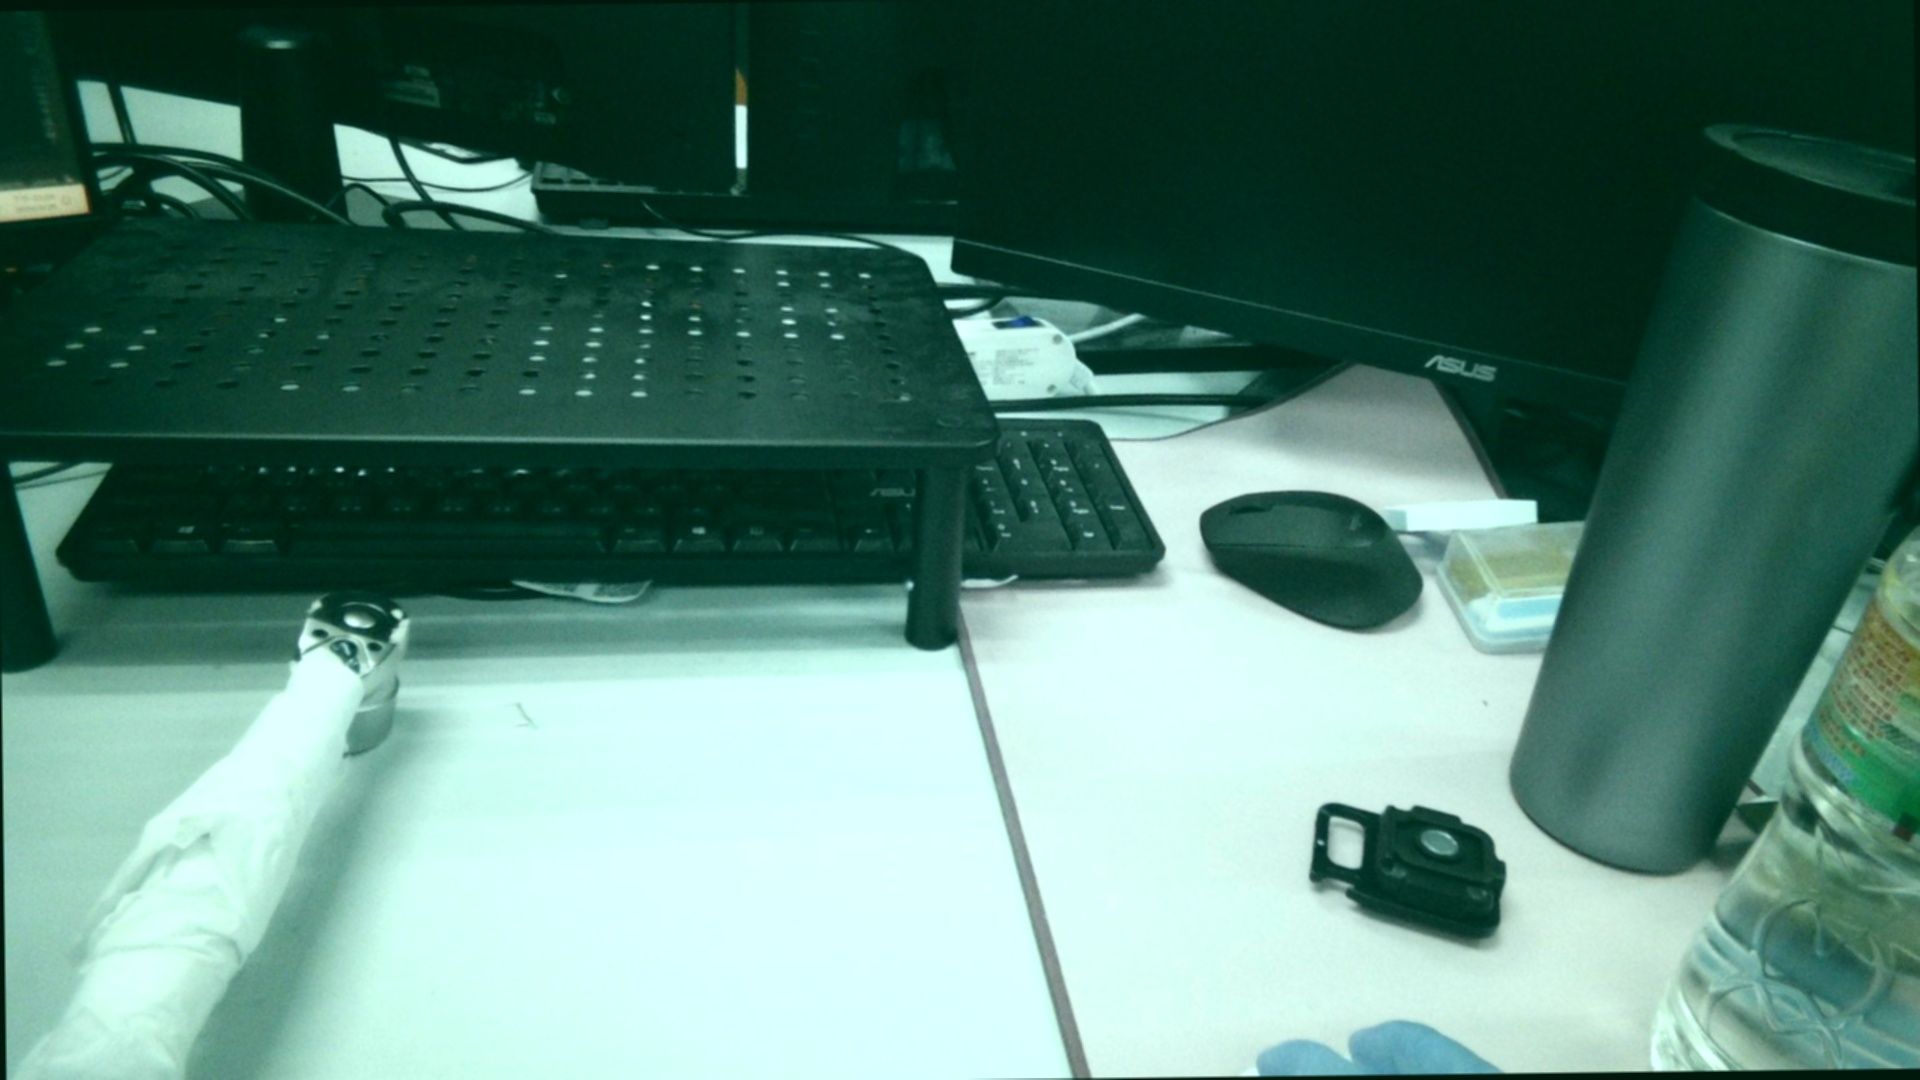wrench: (326, 599, 390, 641)
